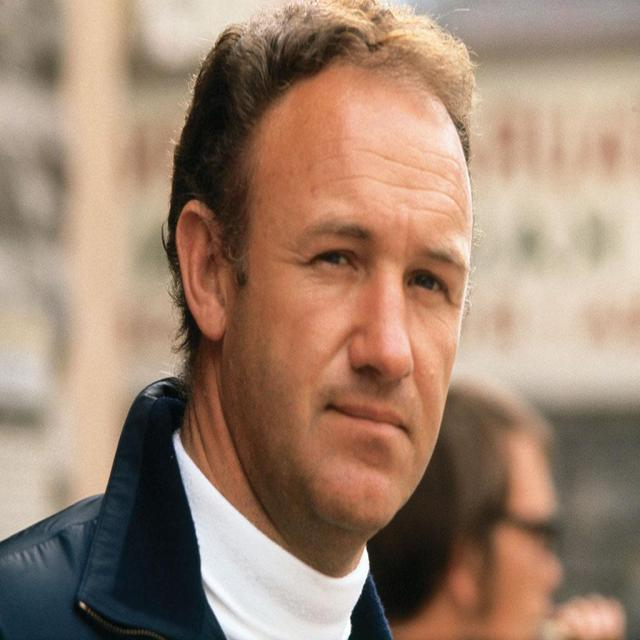no-earmuff: (166, 188, 245, 352), (0, 0, 52, 70)
